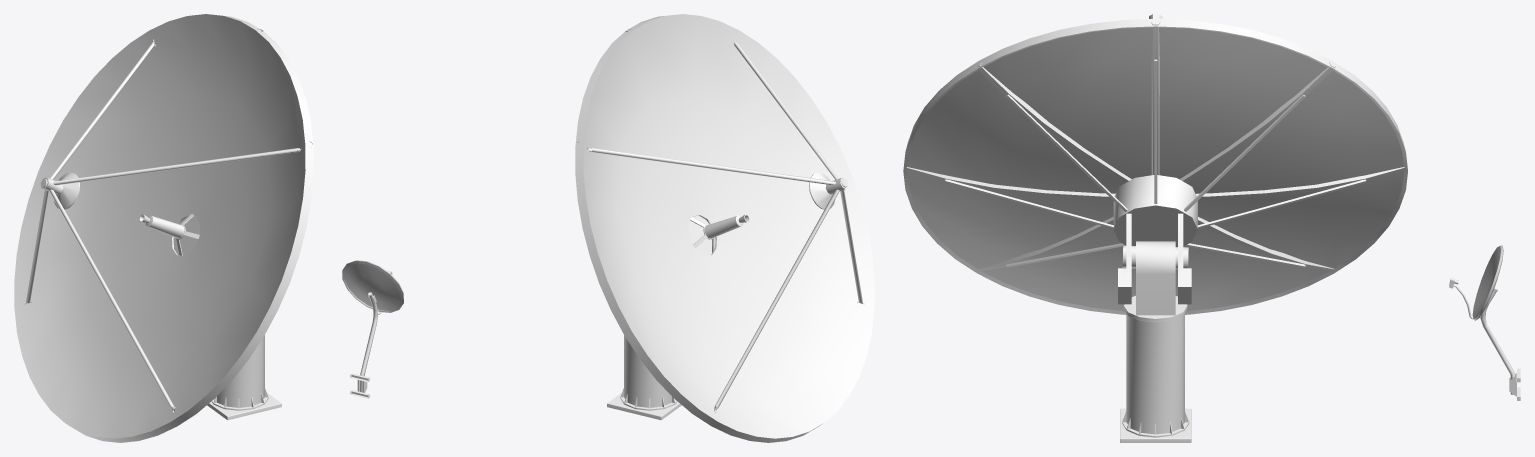
Rendered from Satelity.glb.
3 renders of one model, left to right at view 1: azimuth 30°, elevation 25°; view 2: azimuth 150°, elevation 25°; view 3: azimuth 270°, elevation 25°, orthographic. The views are drawn at different scales.
Parts seen in each view (by area): view 1: Satellite_Dish_Large_01; view 2: Satellite_Dish_Large_01, Satellite_Dish_Small_02; view 3: Satellite_Dish_Large_01, Satellite_Dish_Small_02.
Boxes of the visible parts, left/top/right/bottom form: Satellite_Dish_Large_01: left=14, top=14, right=313, bottom=442; Satellite_Dish_Large_01: left=575, top=14, right=874, bottom=442; Satellite_Dish_Small_02: left=342, top=260, right=403, bottom=398; Satellite_Dish_Large_01: left=903, top=14, right=1407, bottom=442; Satellite_Dish_Small_02: left=1449, top=245, right=1520, bottom=400.
Bounding box in the file's own units: 5.21 × 5.13 × 6.87.
Materials: 3 (2 with a texture image).
